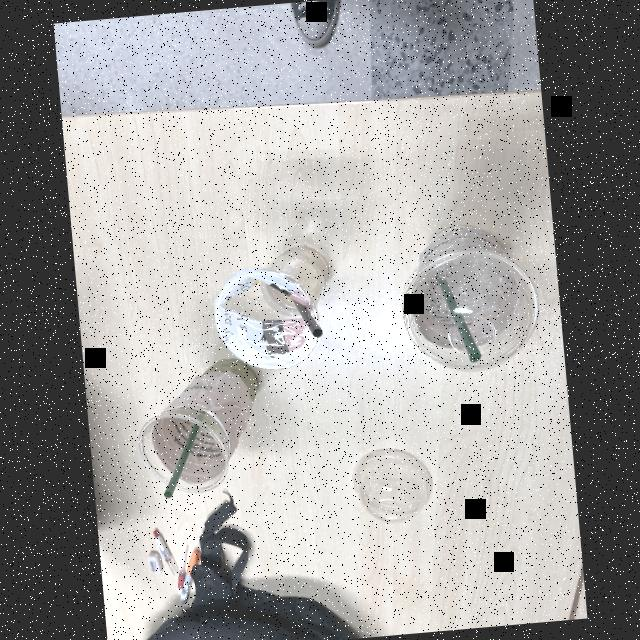plastic_cup: (387, 196, 528, 390), (129, 340, 273, 514), (202, 234, 342, 382)
plastic_cup_lid: (343, 437, 443, 521)
straw: (427, 268, 488, 368), (158, 418, 203, 501), (283, 284, 325, 336)
